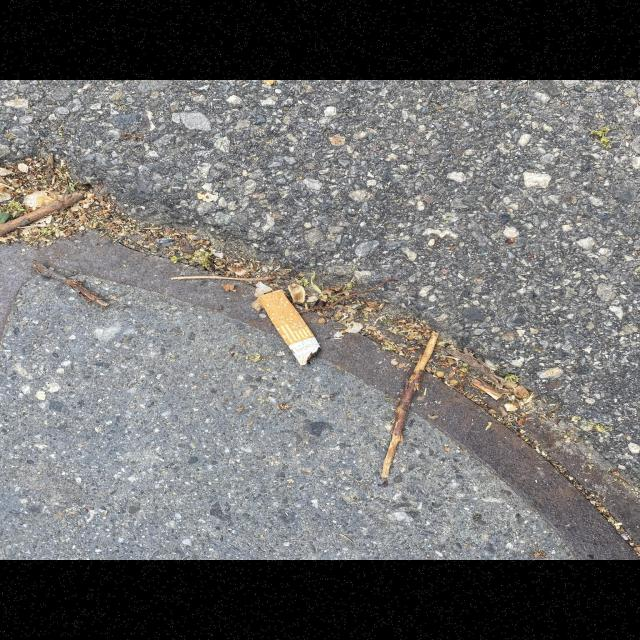other waste: (258, 289, 322, 366)
